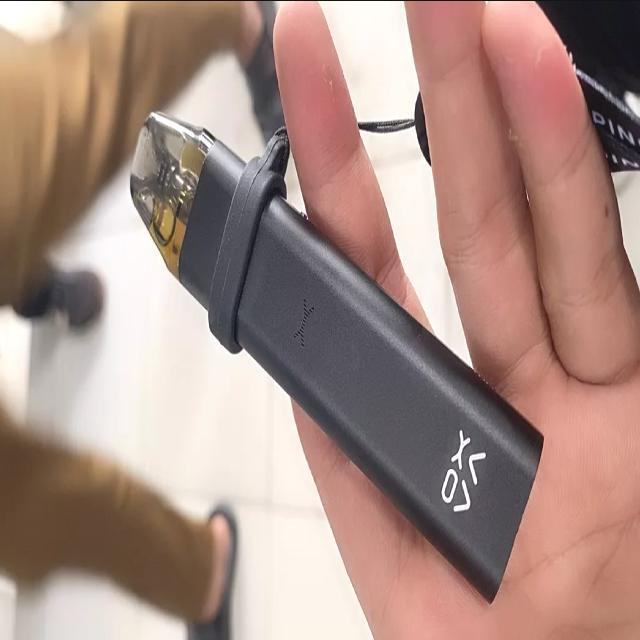Hazard: (128, 106, 546, 601)
